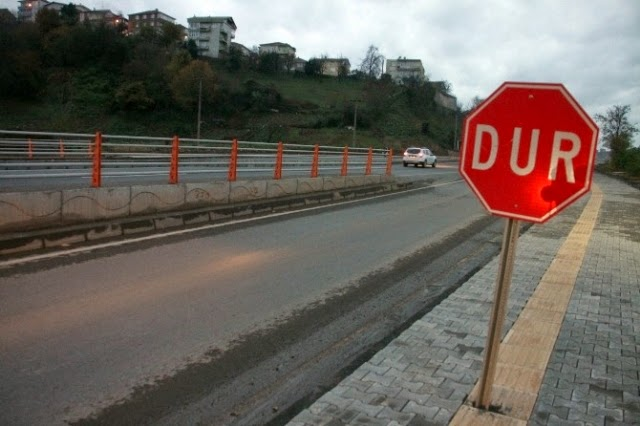dur: (456, 80, 597, 227)
